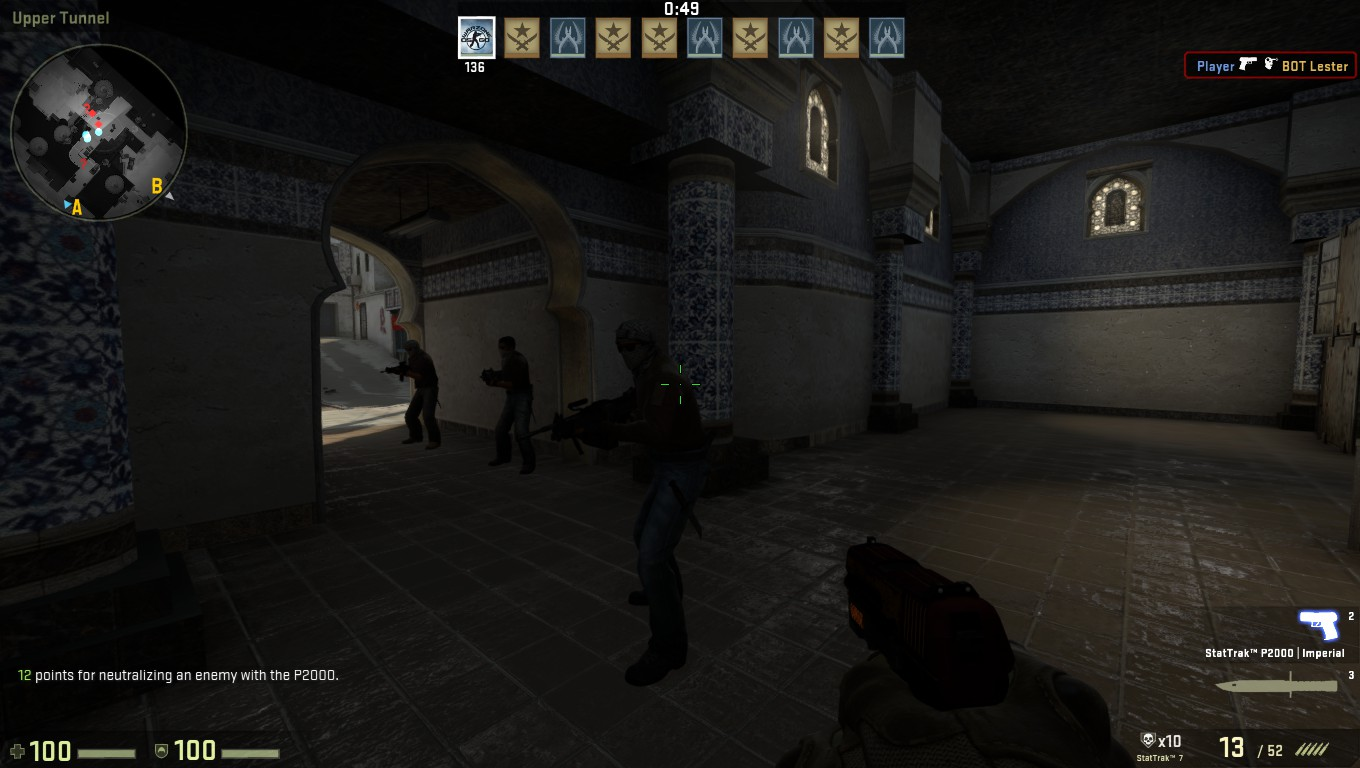t: (580, 314, 723, 692), (476, 334, 545, 476), (384, 337, 453, 454)
th: (604, 313, 673, 387), (488, 334, 523, 366), (400, 334, 430, 369)
